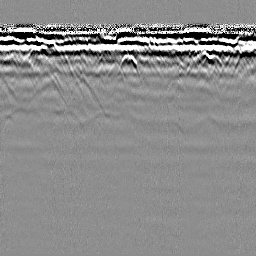cavity: (119, 53, 137, 69)
